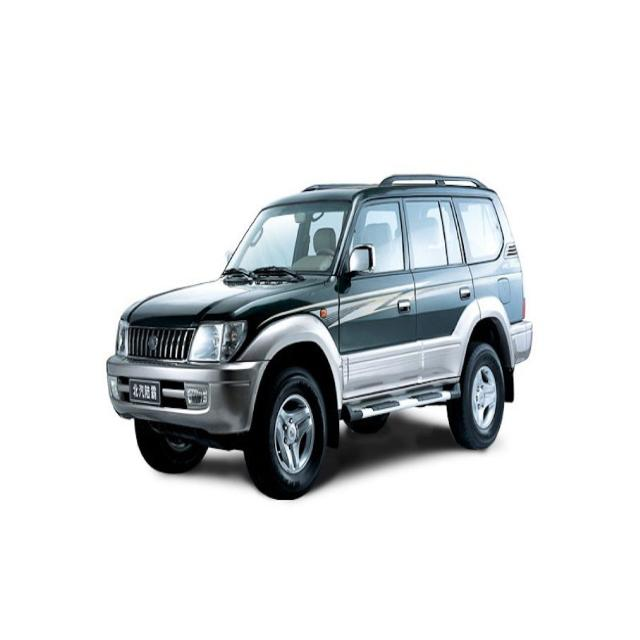door: (398, 193, 489, 397)
front_bumper: (106, 354, 272, 434)
front_glass: (223, 197, 354, 277)
front_left_side_door: (336, 193, 419, 401)
front_left_side_light: (187, 317, 249, 364)
front_left_side_mirror: (346, 242, 376, 274)
front_right_side_light: (114, 317, 131, 359)
rear_bumper: (510, 318, 536, 364)
wheel: (245, 367, 327, 500), (447, 343, 505, 448), (132, 416, 209, 473)
